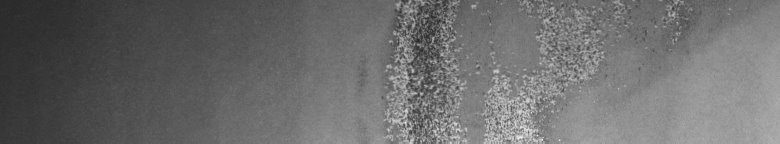hc: (386, 4, 595, 136)
